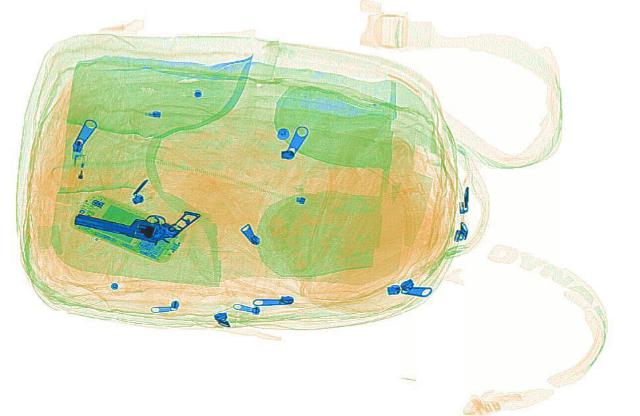Gun: (68, 187, 202, 247)
